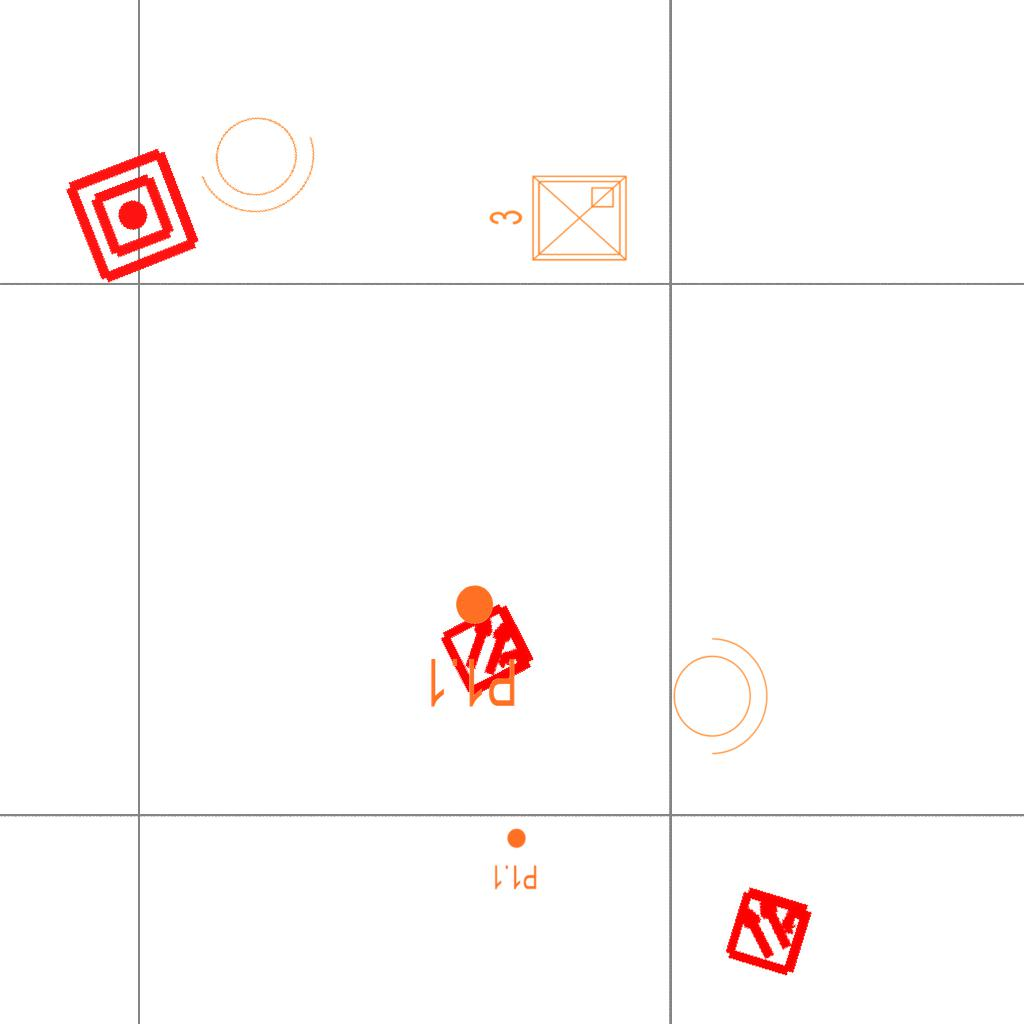Downlight_LED_Einbauleuchten_Flur: (425, 582, 518, 710), (492, 827, 538, 891)
Einbaudownlights_LED_Konferenzraeume: (484, 168, 634, 272)
NAM-Nichtautomatischer_Melder: (59, 142, 206, 289)
OT_Multisensormelder_(Kombination_RMO_WMD): (413, 572, 566, 725), (698, 858, 841, 1001)
Scheinwerfer_fuer_Alarmbeleuchtung: (179, 84, 343, 236), (661, 627, 773, 759)
